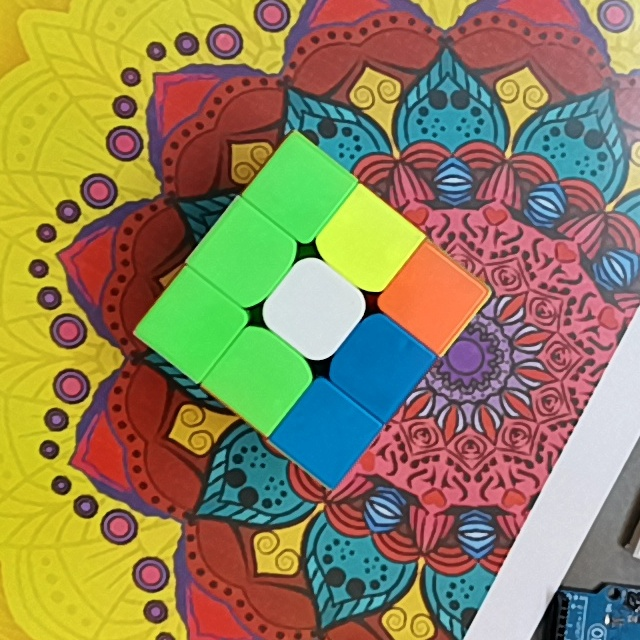tile: (218, 225, 277, 283), (232, 348, 289, 408), (271, 161, 328, 218), (165, 296, 222, 353), (286, 280, 345, 335), (339, 213, 395, 269), (298, 407, 356, 461), (353, 337, 407, 394), (406, 270, 461, 325)
